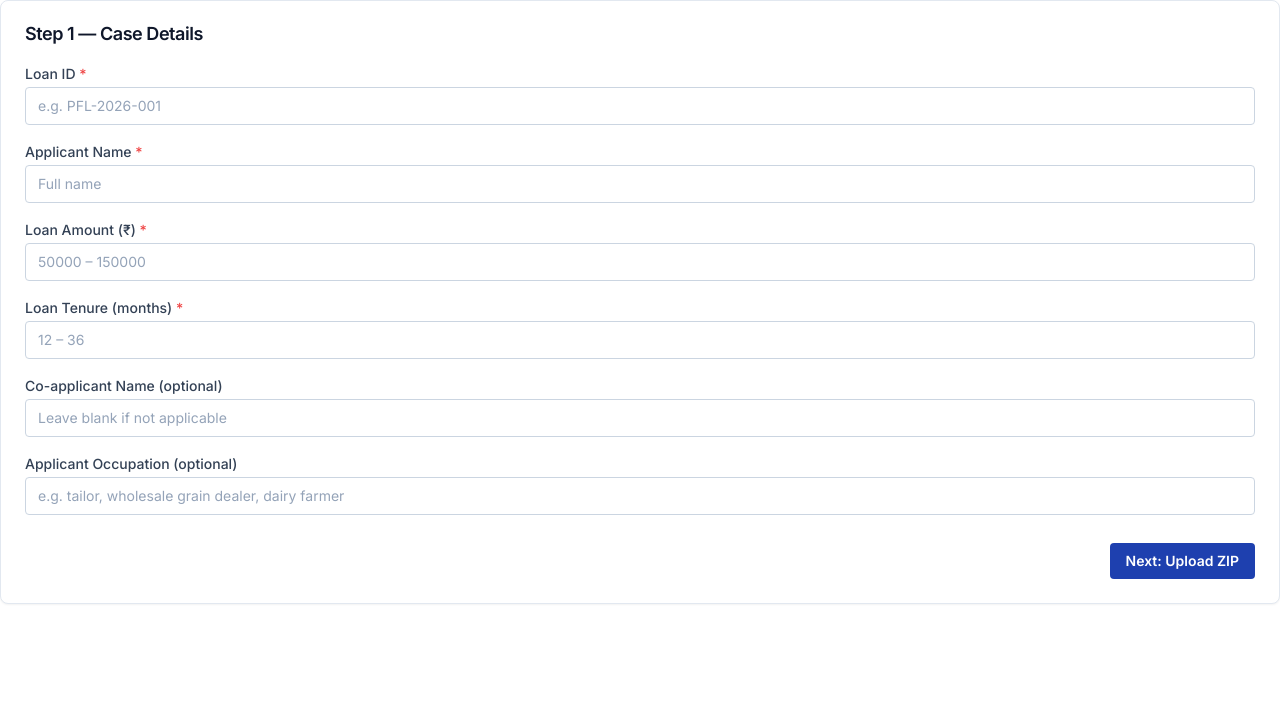
Test: Step1Details › shows validation error for empty loan_id
Click the button "Next: Upload ZIP". click: click(1182, 561)
box: [1110,543,1255,579]
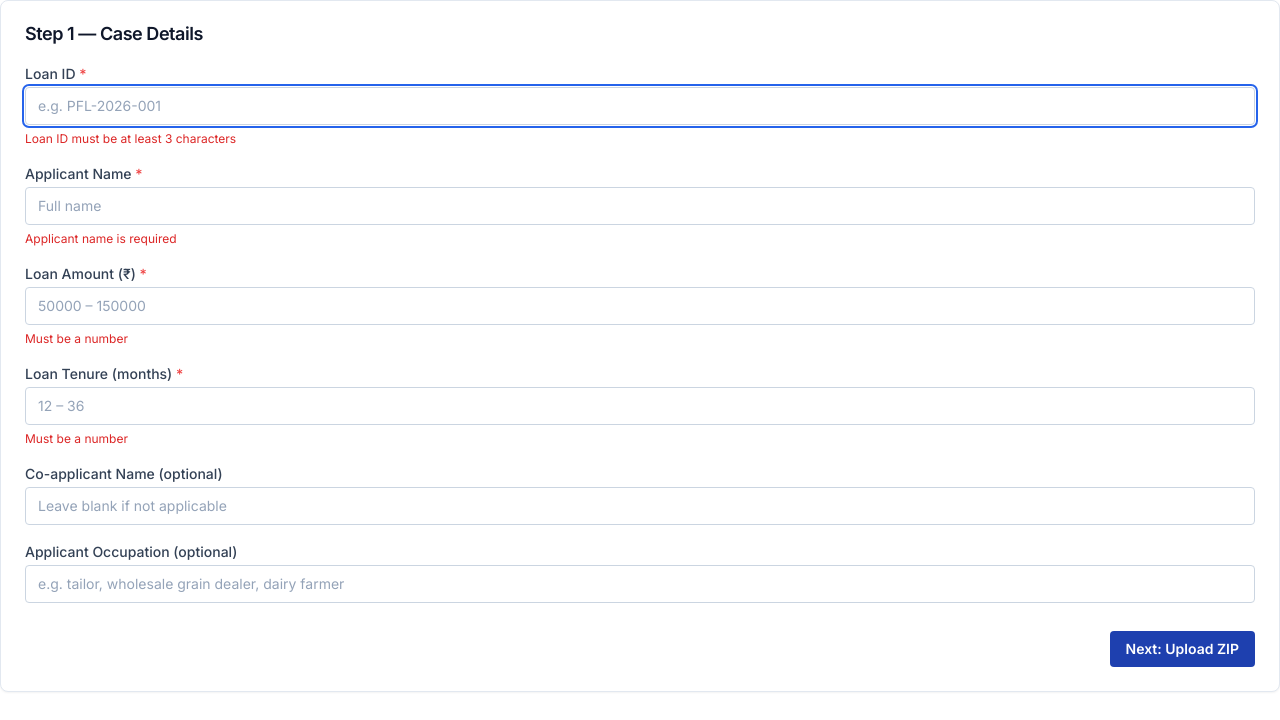
Now the text "Loan ID must be at least 3 characters" is shown, box [25,131,236,146]
